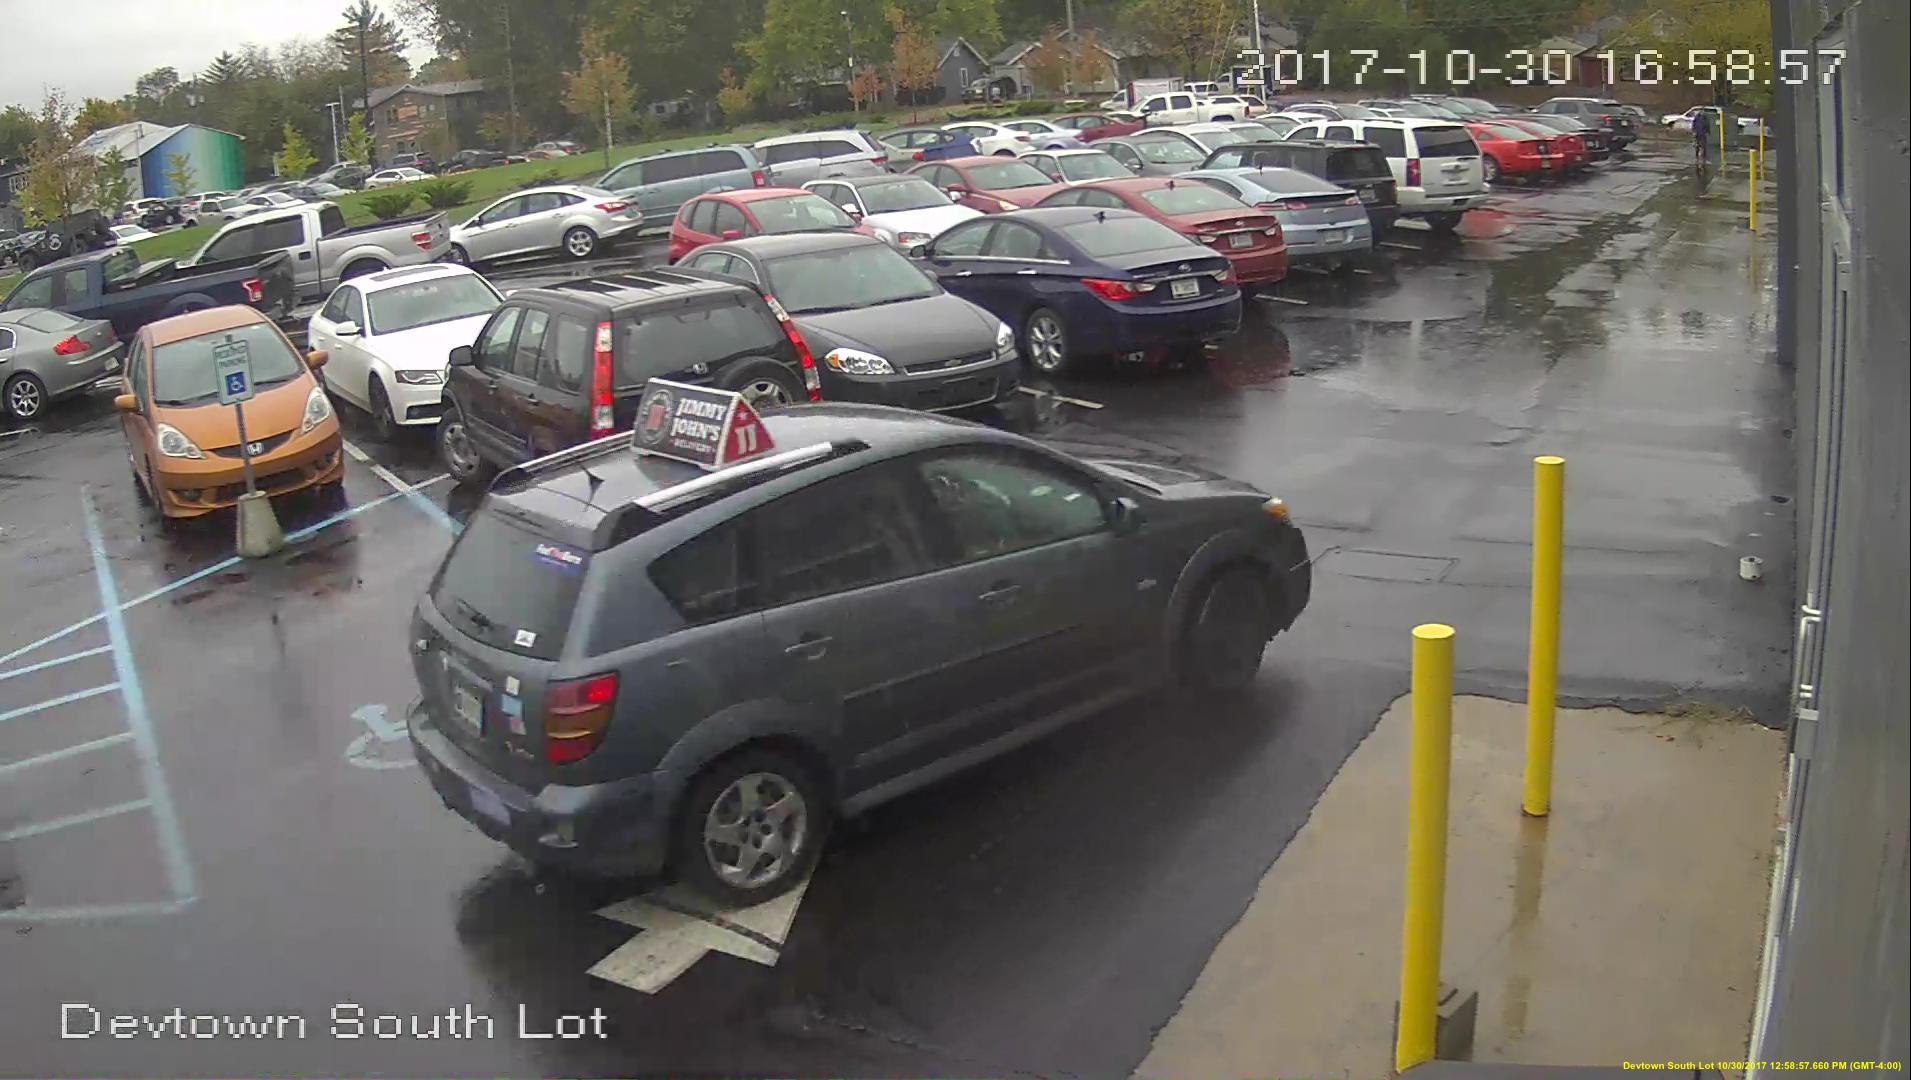jimmy_johns: (631, 373, 778, 476)
